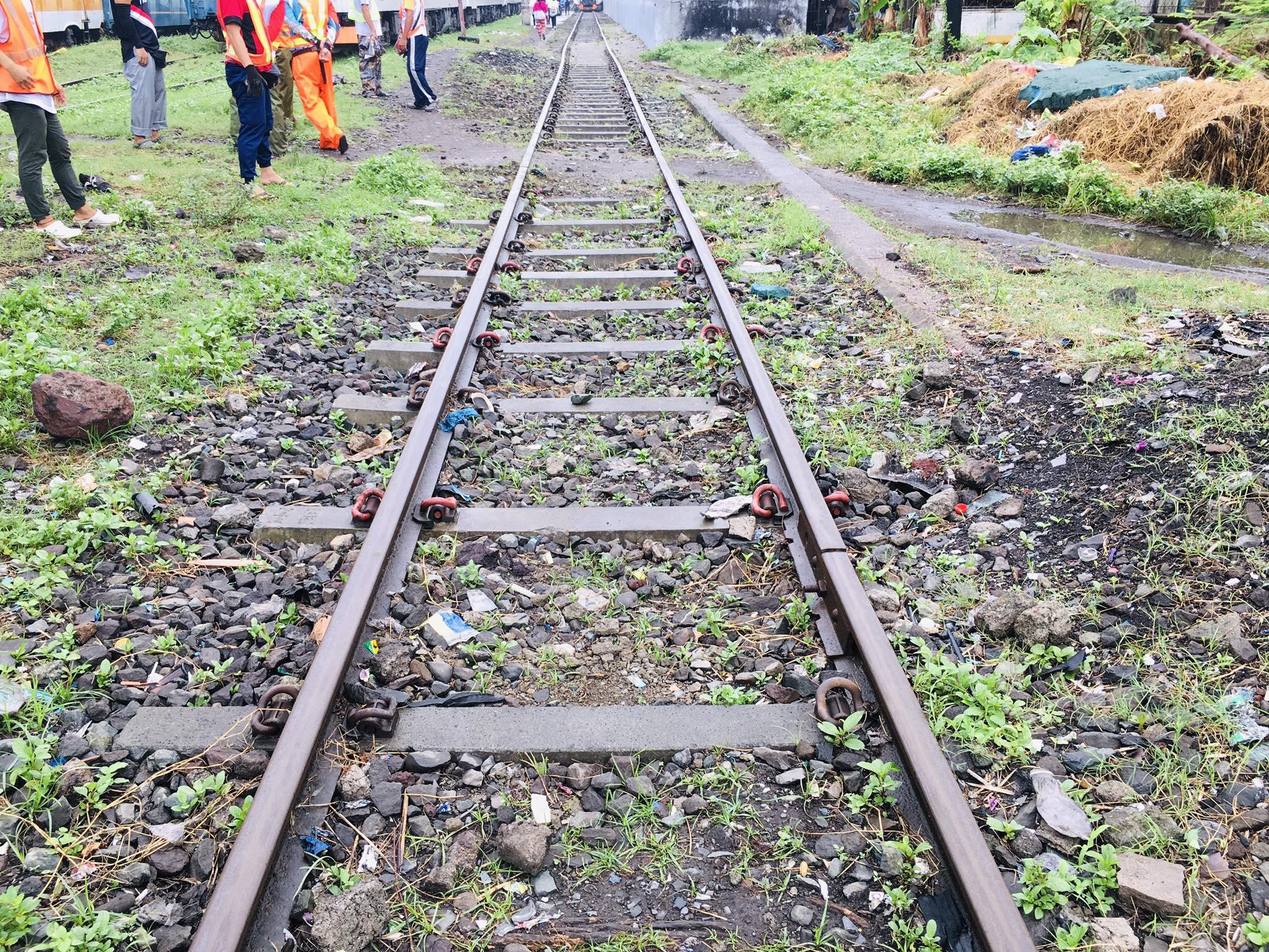railway-gap: (796, 513, 871, 591)
